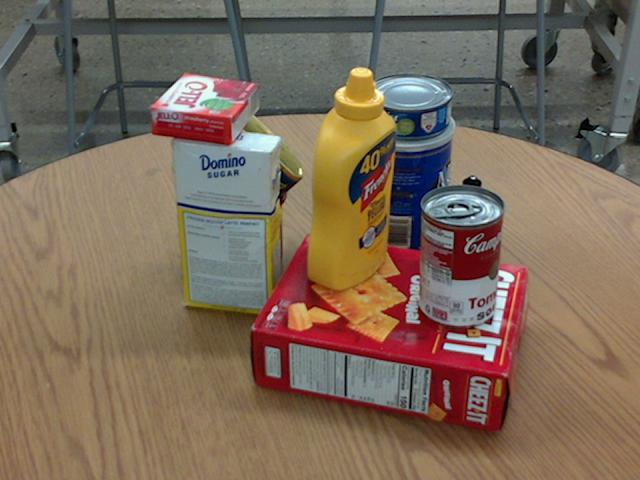cracker_box: (253, 232, 528, 431)
gelatin_box: (151, 73, 259, 143)
large_marker: (453, 176, 480, 287)
master_chef_can: (351, 101, 457, 264)
mug: (193, 169, 286, 276)
mustard_bottle: (306, 66, 395, 290)
potted_meat_can: (173, 103, 304, 232)
sugar_box: (171, 124, 281, 316)
tomato_soup_can: (418, 183, 505, 327)
tuna_fish_can: (367, 73, 453, 138)
